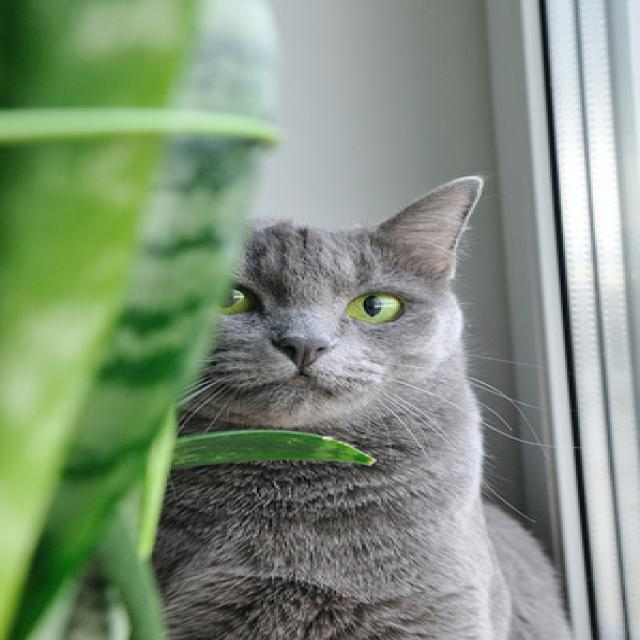Russian Blue: (177, 173, 586, 640)
